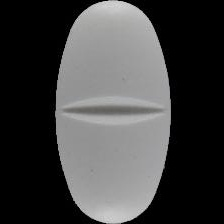33261-116: (0, 0, 224, 224)
